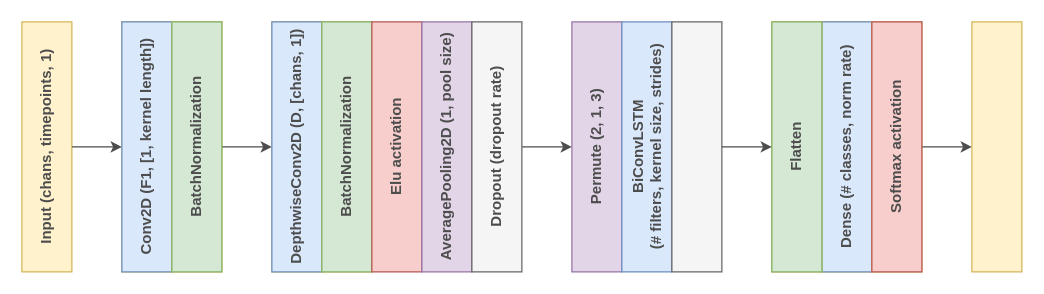
This 1044x294 diagram has some shape labels left out. The shapes that lost their labels are listed below. From the top down, each one's centre as x and y in pixels, then its label:
(x=696, y=146): Dropout (LSTM dropout rate / 2)
(x=996, y=146): Class probabilities output
